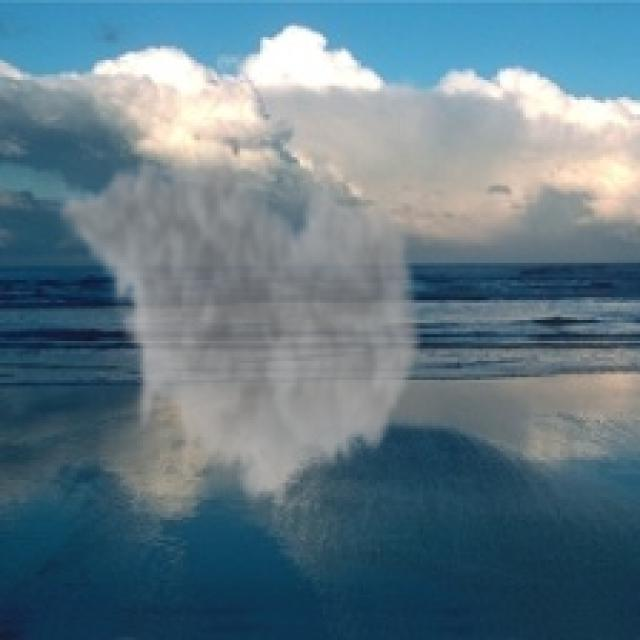smoke: (54, 132, 426, 514)
